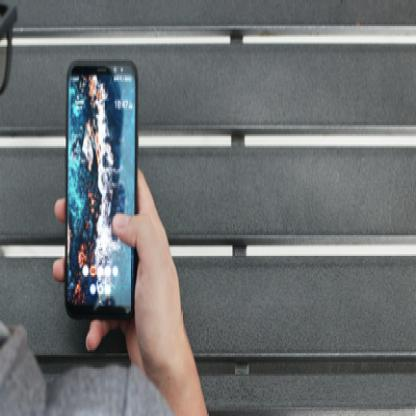cell-phone: (58, 54, 148, 325)
